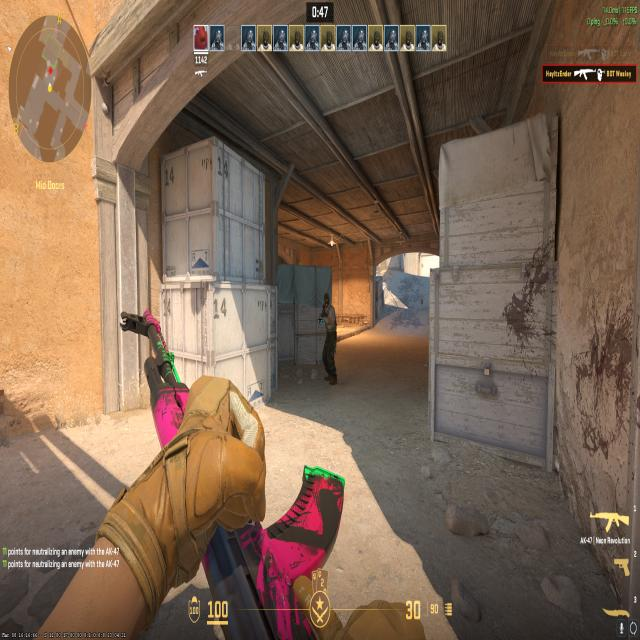t: (310, 289, 345, 395)
